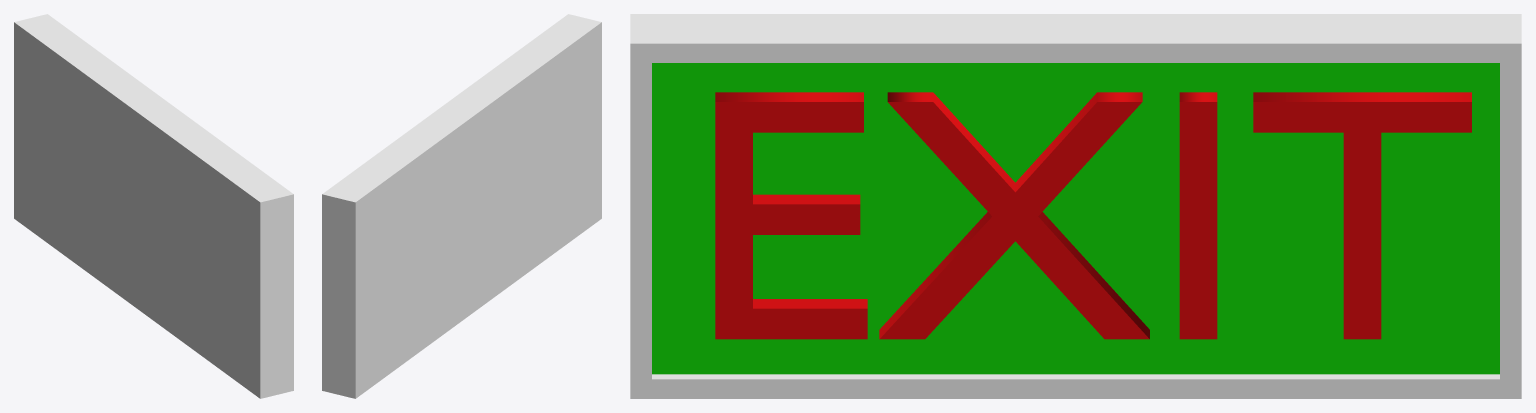
File: Exit.fbx
3 renders of one model, left to right at view 1: azimuth 30°, elevation 25°; view 2: azimuth 150°, elevation 25°; view 3: azimuth 270°, elevation 25°, orthographic. The views are drawn at different scales.
Visible parts, largest first — view 1: Cube; view 2: Cube; view 3: Cube, Text.
Boxes of the visible parts, x1,y1,x2,y2 form: Cube: [14, 14, 293, 398]; Cube: [322, 14, 601, 398]; Cube: [630, 14, 1521, 398]; Text: [715, 92, 1471, 339].
Bounding box in the file's own units: 21.46 × 102 × 232.
